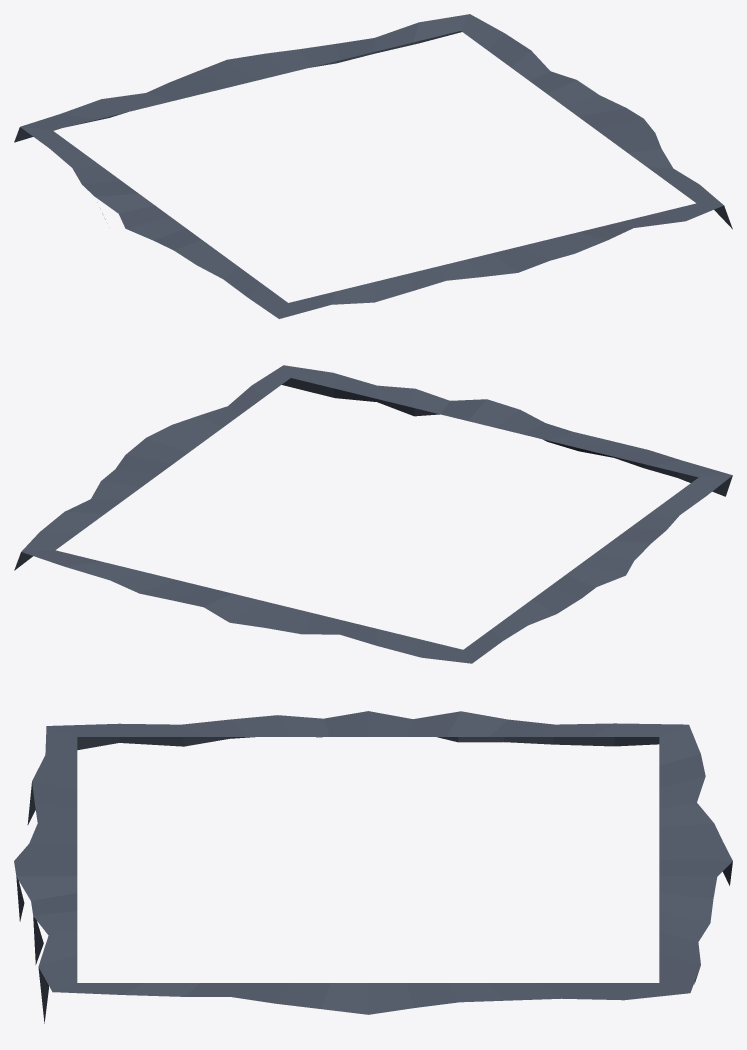
File: entorno_18.glb
3 views of the same model, one above another, from view 1: azimuth 30°, elevation 25°; view 2: azimuth 150°, elevation 25°; view 3: azimuth 270°, elevation 25° (orthographic). The views are drawn at different scales.
Visible parts, largest first — view 1: vulcao_entorno_18; view 2: vulcao_entorno_18; view 3: vulcao_entorno_18.
Boxes of the visible parts, x1,y1,x2,y2 form: vulcao_entorno_18: (14, 14, 732, 318); vulcao_entorno_18: (14, 365, 732, 663); vulcao_entorno_18: (14, 711, 732, 1023).
Bounding box in the file's own units: 22.6 × 1.07 × 22.49.
